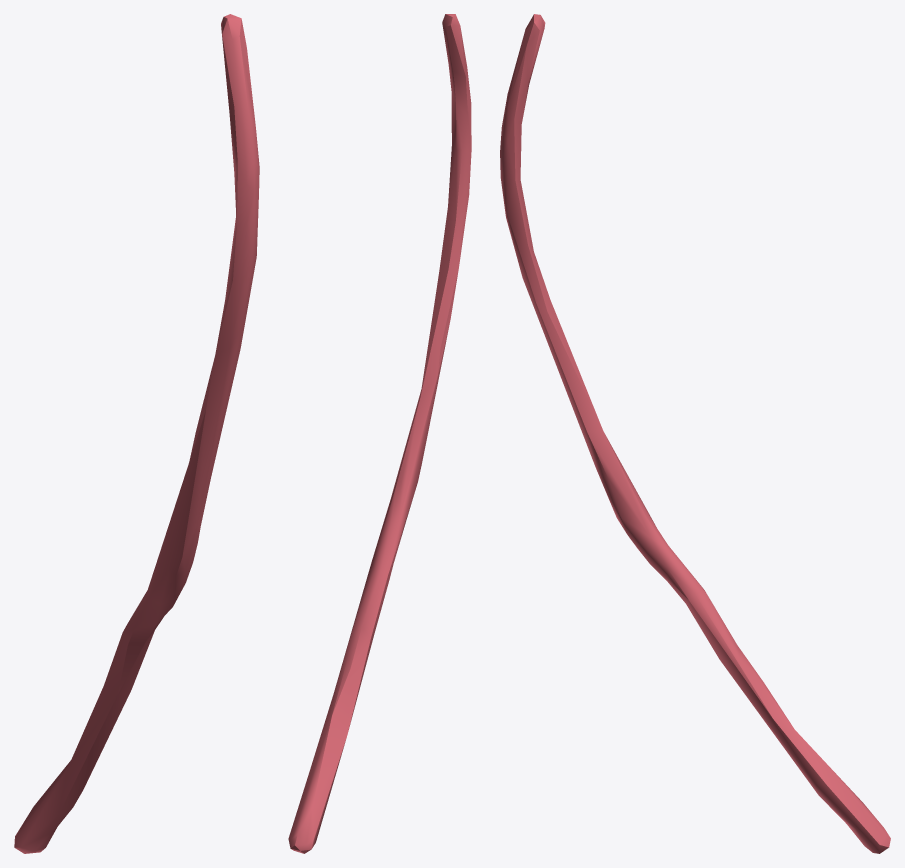
The model's file is fma51346_fj4709.glb.
3 renders of one model, left to right at view 1: azimuth 30°, elevation 25°; view 2: azimuth 150°, elevation 25°; view 3: azimuth 270°, elevation 25°, orthographic. The views are drawn at different scales.
Parts seen in each view (by area): view 1: FMA51346_FJ4709; view 2: FMA51346_FJ4709; view 3: FMA51346_FJ4709.
Boxes of the visible parts, <box> form: FMA51346_FJ4709: <box>14,14,259,853</box>; FMA51346_FJ4709: <box>288,14,471,853</box>; FMA51346_FJ4709: <box>500,14,890,853</box>.
Size of the model in its own units: 0.000998 by 0.0277 by 0.0118.
